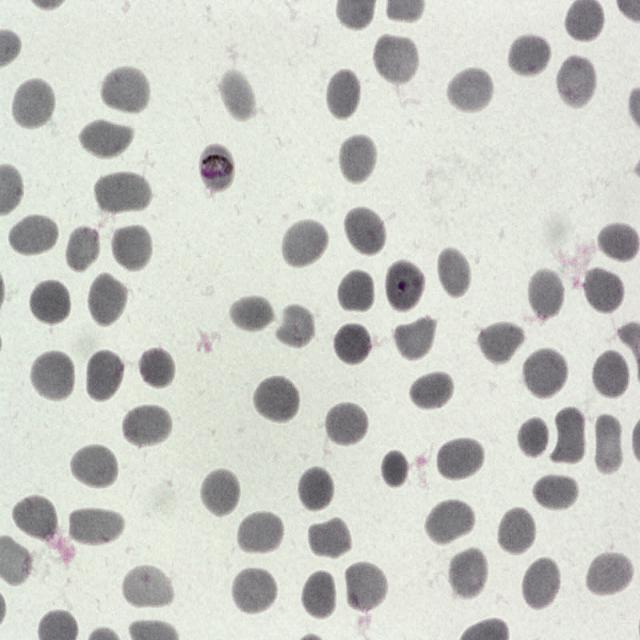gametocyte: (198, 144, 236, 197)
red blood cell: (422, 496, 478, 550), (92, 170, 154, 216), (342, 558, 390, 616), (10, 493, 61, 547), (248, 373, 302, 424), (29, 348, 77, 405), (521, 345, 569, 401), (66, 504, 125, 549), (280, 217, 330, 270), (100, 62, 150, 115), (230, 564, 279, 618), (75, 117, 135, 160), (446, 64, 496, 115), (122, 401, 172, 452), (85, 271, 130, 327), (11, 76, 56, 132), (521, 554, 563, 613), (445, 542, 489, 598), (336, 130, 380, 186), (70, 442, 119, 492), (436, 434, 485, 484), (585, 544, 634, 594), (28, 276, 73, 330), (237, 508, 285, 558), (270, 304, 318, 354), (343, 204, 387, 258), (494, 505, 538, 559), (476, 320, 526, 367), (84, 348, 125, 405), (580, 265, 626, 315), (323, 400, 369, 450), (392, 310, 438, 360), (549, 403, 586, 465), (526, 267, 566, 324), (324, 67, 364, 123), (199, 467, 242, 519), (120, 563, 172, 606), (306, 514, 352, 562), (110, 222, 153, 273), (556, 57, 598, 109), (588, 412, 622, 476), (408, 368, 455, 414), (507, 32, 553, 79), (591, 348, 631, 401), (533, 470, 579, 516), (435, 245, 473, 300), (373, 37, 419, 82), (596, 217, 640, 264), (334, 268, 376, 316), (228, 292, 276, 334), (296, 465, 336, 515), (215, 68, 255, 118), (62, 224, 101, 275), (301, 569, 338, 622), (332, 321, 373, 368), (138, 344, 176, 393), (8, 215, 55, 254), (520, 415, 554, 460), (380, 448, 410, 492)
ring: (385, 259, 425, 312)
